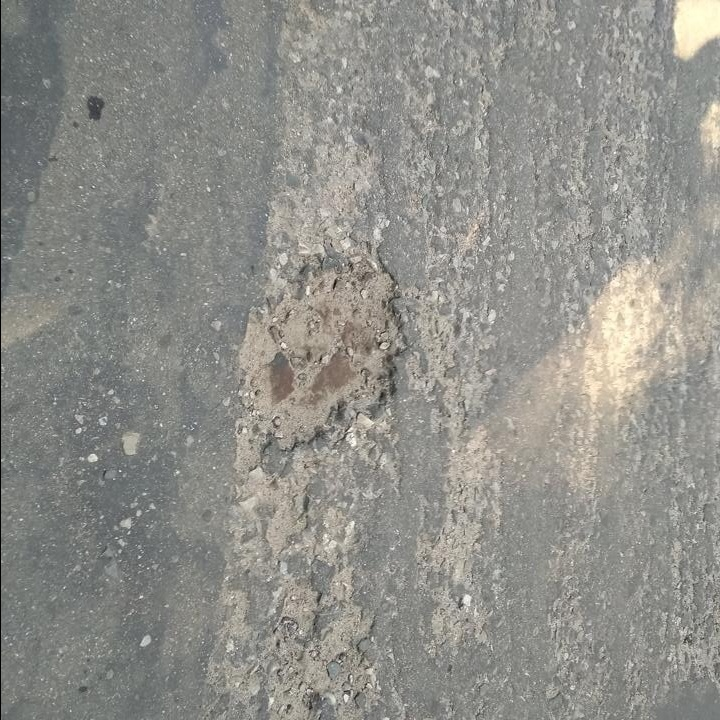pothole: (229, 239, 414, 465), (266, 576, 380, 719)
